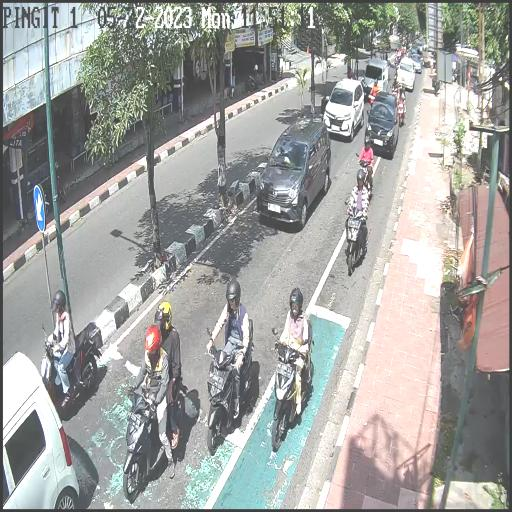mobil: (258, 120, 332, 234), (323, 76, 363, 142), (365, 92, 399, 161), (363, 58, 389, 96), (397, 56, 415, 92)
motor: (122, 371, 188, 501), (206, 318, 254, 455), (271, 319, 315, 452), (38, 319, 98, 409), (344, 198, 367, 276), (355, 150, 375, 197), (396, 96, 406, 128)
